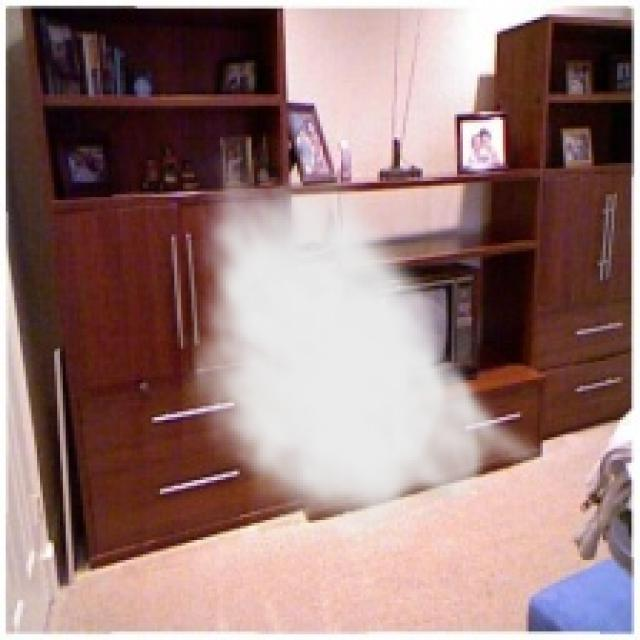smoke: (180, 154, 560, 549)
